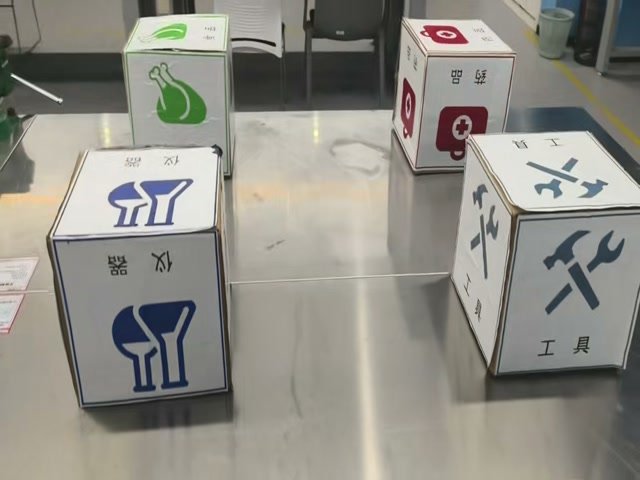Cube_food: (127, 13, 231, 58)
Cube_ins: (49, 145, 226, 244)
Cube_medicine: (400, 15, 514, 60)
Cube_tool: (468, 135, 640, 221)
